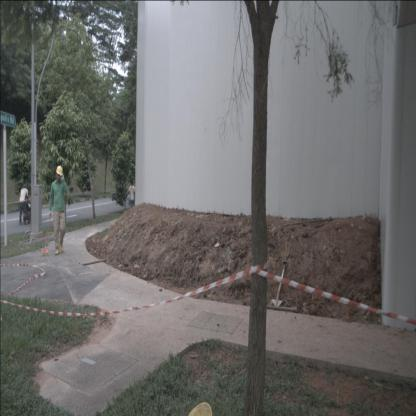human-pedestrian-adult: (127, 180, 135, 217)
